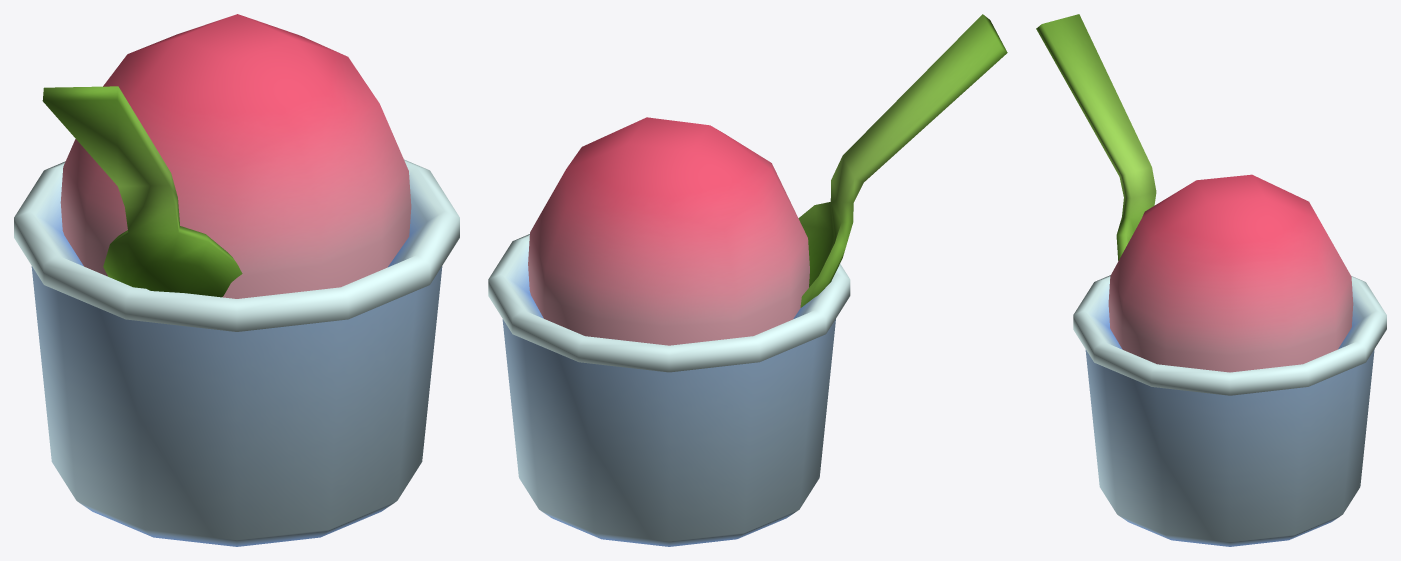
Rendered from m_ShavedIce01.fbx.
3 views of the same model, side by side, from view 1: azimuth 30°, elevation 25°; view 2: azimuth 150°, elevation 25°; view 3: azimuth 270°, elevation 25° (orthographic). The views are drawn at different scales.
Parts seen in each view (by area): view 1: m_ShavedIce01; view 2: m_ShavedIce01; view 3: m_ShavedIce01.
Boxes of the visible parts, box(x1,y1,x2,y2) form: m_ShavedIce01: box(14, 14, 459, 546); m_ShavedIce01: box(488, 14, 1007, 546); m_ShavedIce01: box(1036, 14, 1386, 546).
Size of the model in its own units: 17.63 by 18.57 by 15.27.
